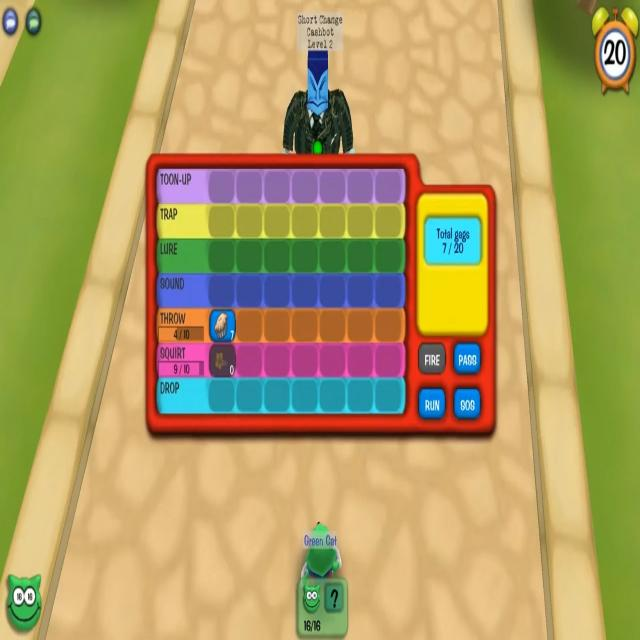shortchange: (282, 13, 354, 154)
